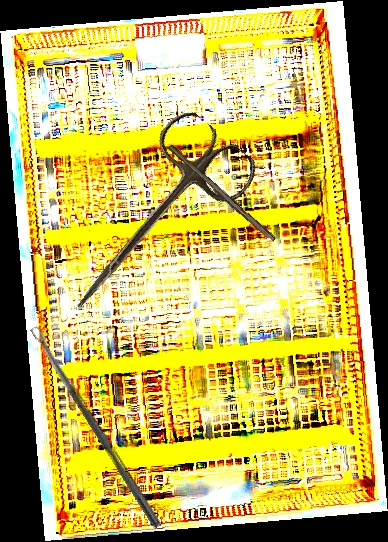Iris Scissors: (42, 103, 264, 343)
Scalpel Handle: (165, 143, 278, 245)
Surgical Spoon: (29, 324, 164, 530)
